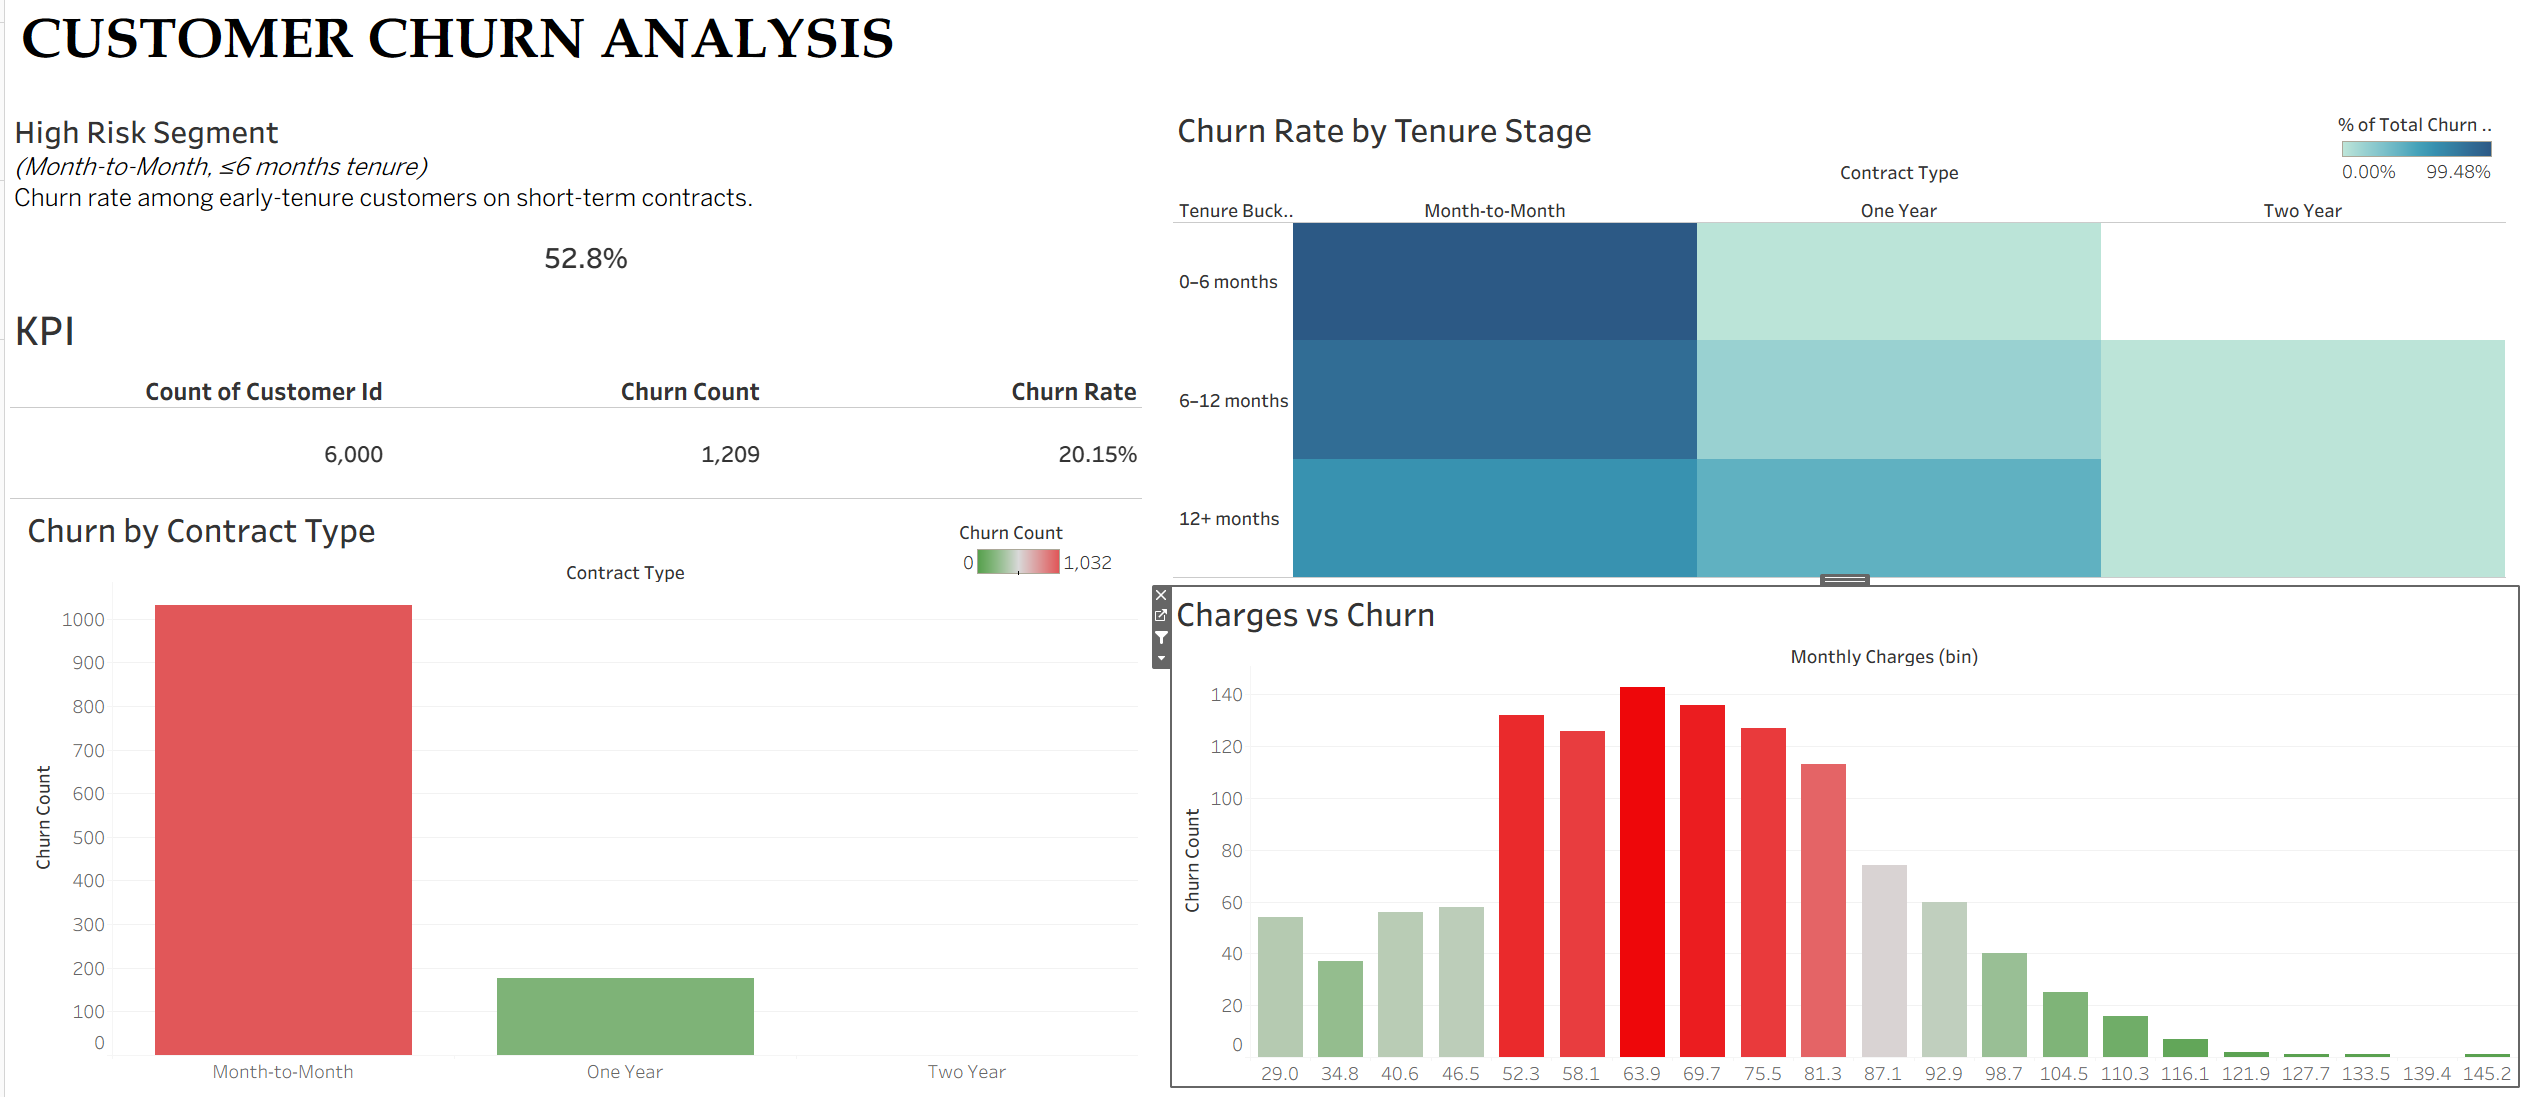

The page's visual inventory and layout, read from the dashboard file:
{"tool":"tableau","page":{"name":"Dashboard 1","canvas":[1000,1000],"units":"permille","ordinal":0},"visuals":[{"type":"title","box":[3.2,7.2,993.7,67.8]},{"type":"worksheet","title":"Churn Rate by Tenure Stage","mark":"Square","rows":["Calculation_0126740813119491"],"cols":["contract_type"],"box":[463.2,99.5,528.4,429.5]},{"type":"worksheet","title":"High Risk Segment","mark":"Automatic","box":[1.8,102.2,456.4,165.5]},{"type":"legend","title":"Churn Rate by Tenure Stage","param":"[federated.1rq5rne0kjg6wo112w46k0t69wxv].[pcto:sum:Calculation_0126740810543105:","box":[925,106.7,62.5,90.4]},{"type":"worksheet","title":"KPI","mark":"Automatic","box":[1.8,274.9,448.9,182.6]},{"type":"worksheet","title":"Churn by Contract Type","mark":"Automatic","rows":["Calculation_0126740810543105"],"cols":["contract_type"],"box":[7.2,461.1,442.2,535.3]},{"type":"legend","title":"Churn by Contract Type","param":"[federated.1rq5rne0kjg6wo112w46k0t69wxv].[sum:Calculation_0126740810543105:qk]","box":[378.3,475.6,62.5,90.4]},{"type":"worksheet","title":"Charges vs Churn","mark":"Automatic","rows":["Calculation_0126740810543105"],"cols":["Monthly Charges (bin)"],"box":[462.7,537.1,533.7,451.2]}]}

Visuals, with their boxes on the dashboard's canvas, which has no fixed pixel size, in thousandths of its width and height (x1, y1, x2, y2). These are canvas units, not pixel positions in the 2527x1097 screenshot, which may show the page scaled, cropped or inside an application window:
title: (left=3, top=7, right=997, bottom=75)
"Churn Rate by Tenure Stage" worksheet (Square marks): (left=463, top=100, right=992, bottom=529)
"High Risk Segment" worksheet: (left=2, top=102, right=458, bottom=268)
"Churn Rate by Tenure Stage" legend: (left=925, top=107, right=988, bottom=197)
"KPI" worksheet: (left=2, top=275, right=451, bottom=458)
"Churn by Contract Type" worksheet: (left=7, top=461, right=449, bottom=996)
"Churn by Contract Type" legend: (left=378, top=476, right=441, bottom=566)
"Charges vs Churn" worksheet: (left=463, top=537, right=996, bottom=988)
